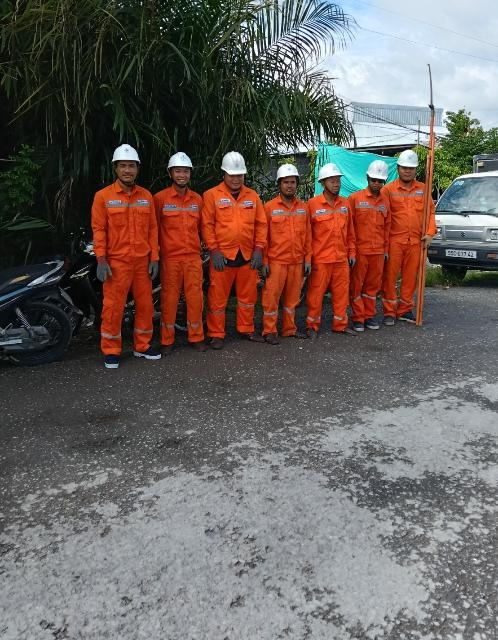gloves: (92, 256, 119, 284), (206, 250, 228, 271), (298, 257, 316, 280), (245, 246, 262, 270), (255, 258, 274, 278), (146, 260, 162, 280), (343, 251, 359, 270), (421, 229, 434, 251), (380, 249, 393, 267)
helmet: (106, 141, 149, 171), (160, 149, 201, 173), (218, 151, 254, 178), (356, 160, 392, 182), (391, 147, 425, 170), (312, 160, 347, 182), (273, 161, 305, 182)
shoes: (95, 347, 130, 373), (126, 341, 163, 364), (200, 327, 230, 354), (236, 326, 266, 347), (274, 325, 309, 342), (154, 336, 176, 361), (260, 324, 282, 349), (331, 324, 359, 343), (300, 320, 323, 341), (186, 335, 210, 355), (398, 310, 422, 326), (346, 315, 367, 333), (360, 314, 381, 332), (380, 310, 400, 326)
